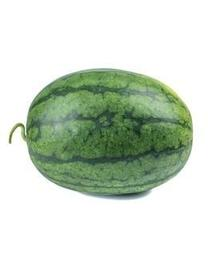watermelon: (24, 68, 192, 196)
